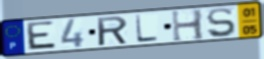4: (59, 17, 87, 49)
E: (26, 20, 59, 52)
H: (170, 8, 207, 43)
L: (133, 14, 160, 44)
R: (95, 15, 130, 47)
S: (205, 7, 238, 39)
